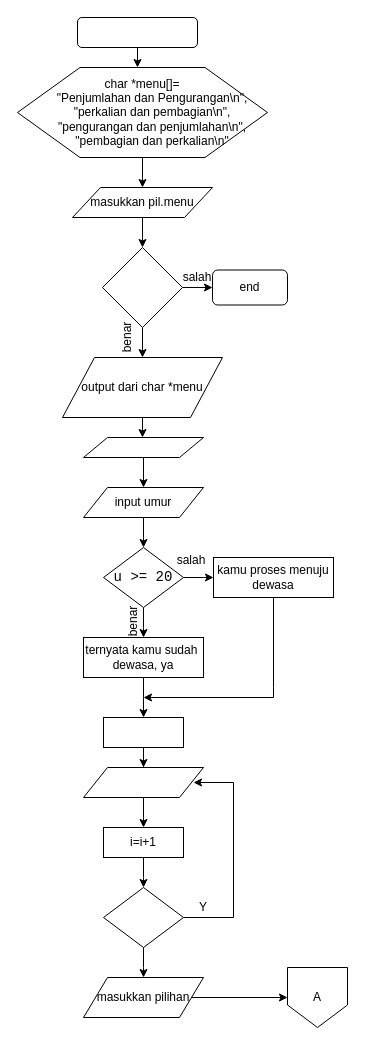
The diagram is 365 pixels wide and 1045 high, and some of its shapes have lost their labels. The shapes that lost their labels are listed below. From the top down, each one's centre as x and y in pixels, then its label:
At (137,32): "start".
At (142,287): "input 1-4".
At (143,447): "input nama".
At (143,732): "i=1".
At (143,782): "print i*2".
At (143,917): "i<=8".
